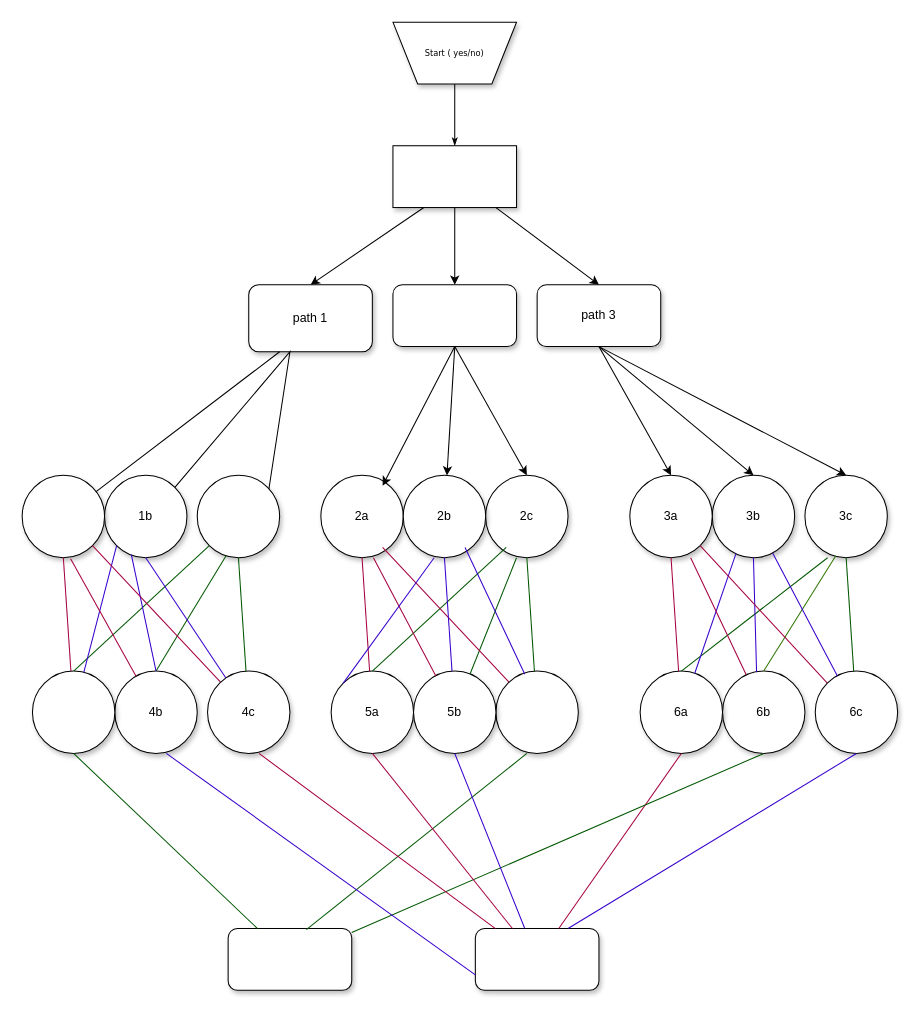
Image size: 922x1016. Some labels were removed from this diagram. The shapes that lost their labels are listed below. From the top down, each one's centre as x and y in pixels, then its label:
At pixel 455 178: "Intro text, first path".
At pixel 455 317: "path 2".
At pixel 64 517: "1a".
At pixel 239 517: "1c".
At pixel 74 713: "4a".
At pixel 538 713: "5c".
At pixel 290 960: "Win".
At pixel 537 960: "Loose".
